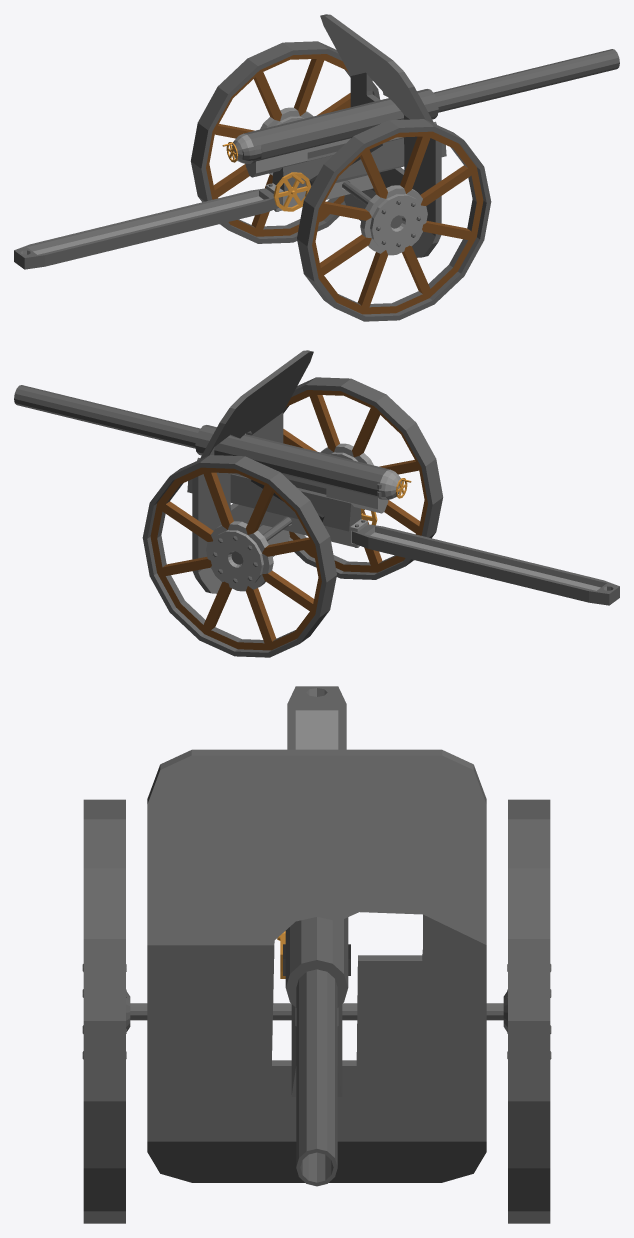
File: WW1 Artillery.fbx
3 views of the same model, one above another, from view 1: azimuth 30°, elevation 25°; view 2: azimuth 150°, elevation 25°; view 3: azimuth 270°, elevation 25° (orthographic). The views are drawn at different scales.
Parts seen in each view (by area): view 1: Right Wheel, Left Wheel, Cannon, Artillery Cover, Right Leg, Left Leg, Artillery Cannon, Cannon Arm, Angle Wheel, Cannon Door; view 2: Left Wheel, Right Wheel, Cannon, Artillery Cover, Left Leg, Artillery Cannon, Right Leg, Cannon Arm, Cannon Door; view 3: Artillery Cover, Right Wheel, Left Wheel, Cannon, Right Leg, Left Leg, Axil, Artillery Cannon.
Boxes of the visible parts, box(x1,y1,x2,y2) form: Right Wheel: box(297, 119, 491, 321); Left Wheel: box(190, 41, 380, 243); Cannon: box(244, 49, 619, 163); Artillery Cover: box(320, 14, 441, 257); Right Leg: box(19, 192, 281, 269); Left Leg: box(14, 188, 270, 265); Artillery Cannon: box(266, 121, 446, 211); Cannon Arm: box(245, 137, 403, 177); Angle Wheel: box(273, 172, 310, 211); Cannon Door: box(232, 133, 262, 163); Left Wheel: box(142, 455, 336, 657); Right Wheel: box(283, 377, 443, 579); Cannon: box(14, 385, 389, 499); Artillery Cover: box(192, 350, 313, 593); Left Leg: box(352, 528, 614, 605); Artillery Cannon: box(187, 457, 367, 547); Right Leg: box(363, 524, 619, 601); Cannon Arm: box(230, 473, 388, 513); Cannon Door: box(377, 469, 402, 499); Artillery Cover: box(147, 749, 486, 1182); Right Wheel: box(82, 799, 130, 1223); Left Wheel: box(503, 799, 551, 1223); Cannon: box(285, 917, 348, 1186); Right Leg: box(287, 686, 316, 749); Left Leg: box(317, 686, 346, 749); Axil: box(130, 1003, 503, 1020); Artillery Cannon: box(291, 1004, 342, 1096).
Bounding box in the file's own units: 3239 × 1220 × 1104.
